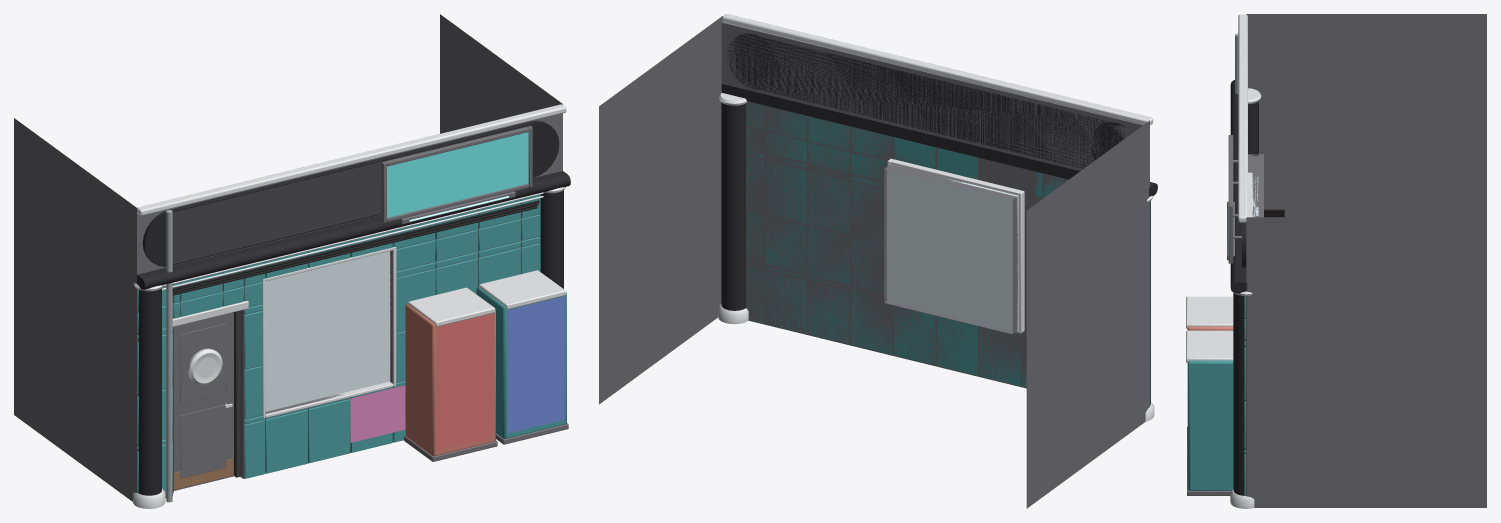
File: retro_wall_6a.glb
3 renders of one model, left to right at view 1: azimuth 30°, elevation 25°; view 2: azimuth 150°, elevation 25°; view 3: azimuth 270°, elevation 25°, orthographic. The views are drawn at different scales.
Visible parts, largest first — view 1: retro_wall_6a; view 2: retro_wall_6a; view 3: retro_wall_6a.
Boxes of the visible parts, box(x1,y1,x2,y2) form: retro_wall_6a: box(14, 14, 570, 508); retro_wall_6a: box(599, 14, 1157, 508); retro_wall_6a: box(1186, 14, 1486, 508).
Bounding box in the file's own units: 6.06 × 4 × 3.75.
